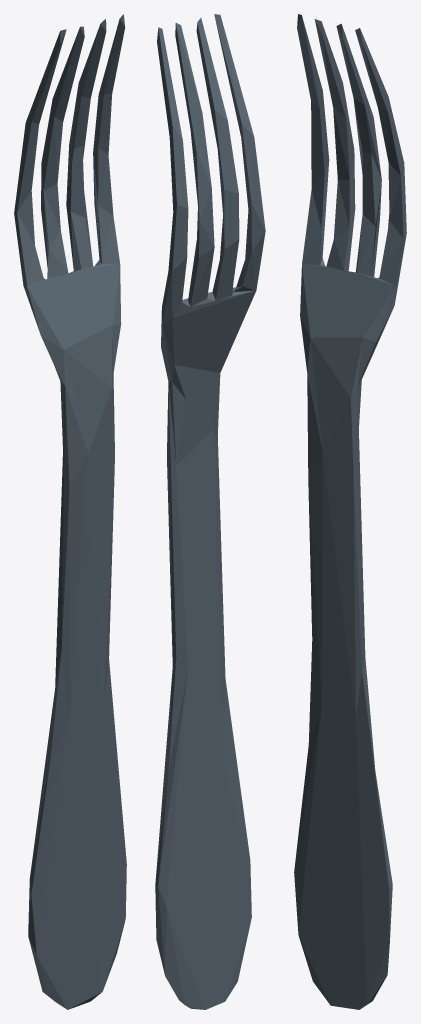
Rendered from Fork02.fbx.
The picture shows the model from 3 angles, left to right: view 1: azimuth 30°, elevation 25°; view 2: azimuth 210°, elevation 25°; view 3: azimuth 330°, elevation 25°; orthographic projection. The views are drawn at different scales.
Visible parts, largest first — view 1: Fork02LowPoly; view 2: Fork02LowPoly; view 3: Fork02LowPoly.
Part boxes in pixels (x1,y1,x2,y2): Fork02LowPoly: (14, 14, 126, 1009); Fork02LowPoly: (155, 14, 265, 1009); Fork02LowPoly: (294, 14, 406, 1009).
Bounding box in the file's own units: 2 × 19.89 × 1.2.
